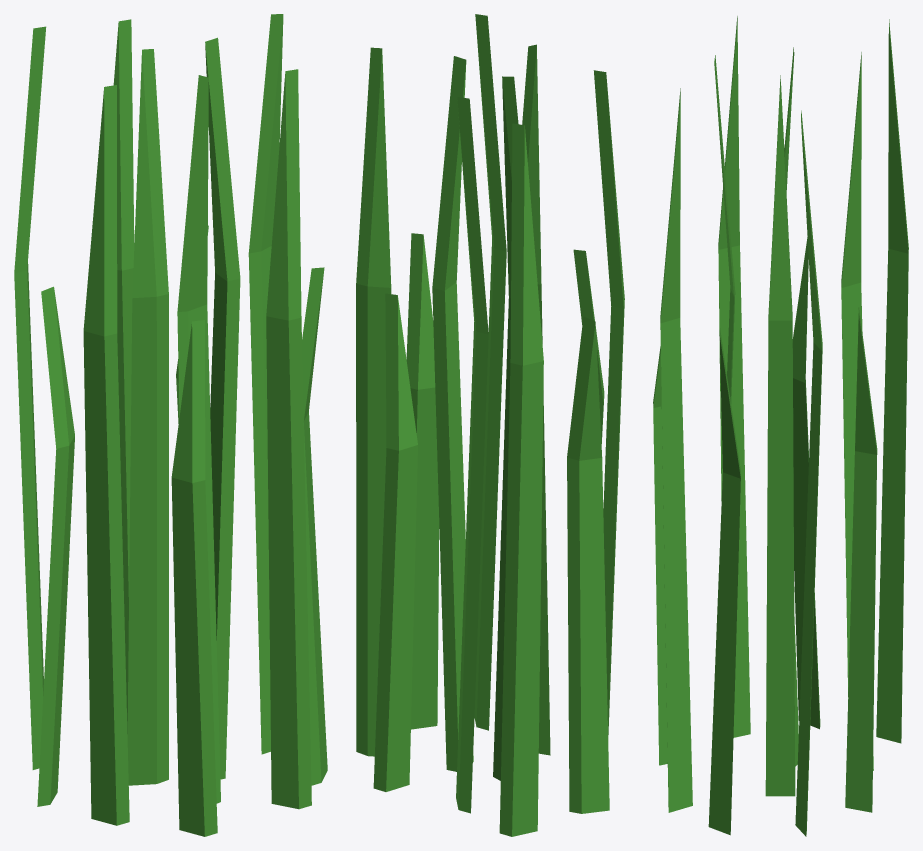
The model's file is reeds.glb.
3 renders of one model, left to right at view 1: azimuth 30°, elevation 25°; view 2: azimuth 150°, elevation 25°; view 3: azimuth 270°, elevation 25°, orthographic. The views are drawn at different scales.
Parts seen in each view (by area): view 1: Grass; view 2: Grass; view 3: Grass.
Boxes of the visible parts, left/top/right/bottom form: Grass: left=14, top=14, right=327, bottom=836; Grass: left=356, top=14, right=624, bottom=836; Grass: left=653, top=16, right=908, bottom=836.
Size of the model in its own units: 0.5607 by 1.52 by 0.4908.
